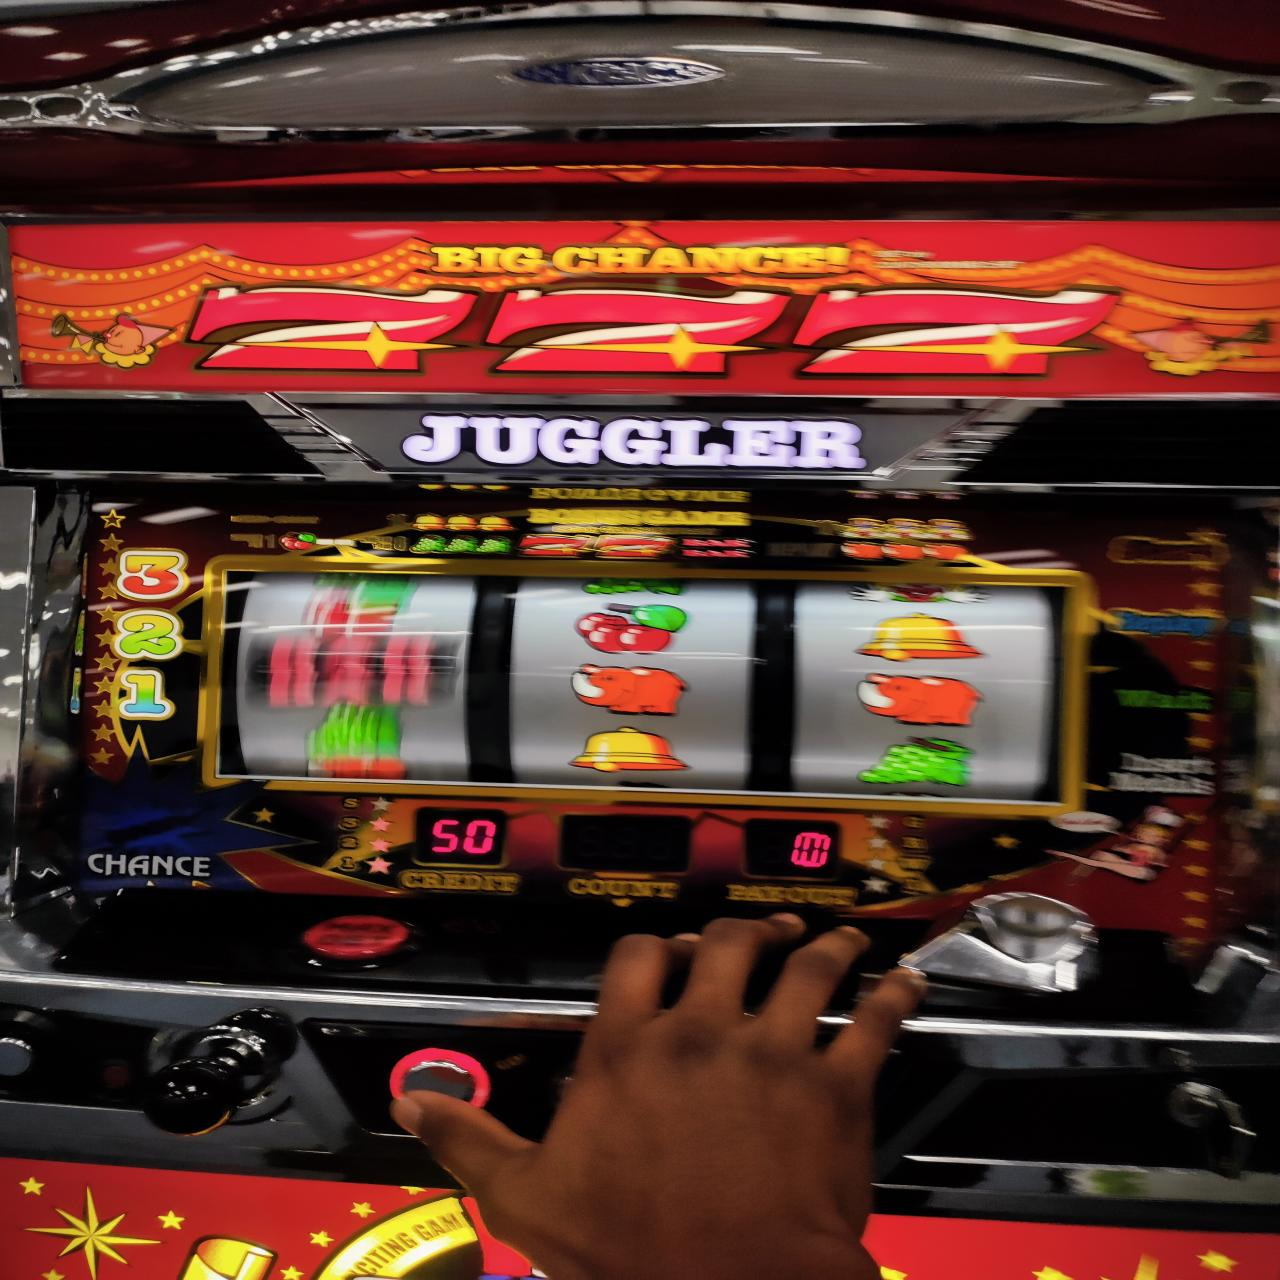8: (853, 673, 987, 728), (570, 661, 692, 719)
bell: (857, 607, 980, 663), (568, 723, 695, 775)
cherry: (576, 604, 692, 654)
grape: (855, 735, 978, 785)
rhino: (196, 554, 1073, 805)
